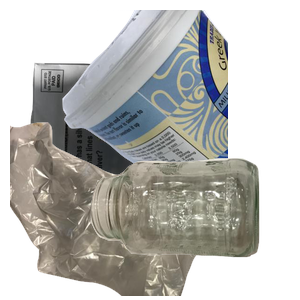glass: (88, 156, 300, 300)
paper: (27, 60, 223, 240)
plastic: (60, 10, 300, 190)
trash: (10, 120, 231, 300)
